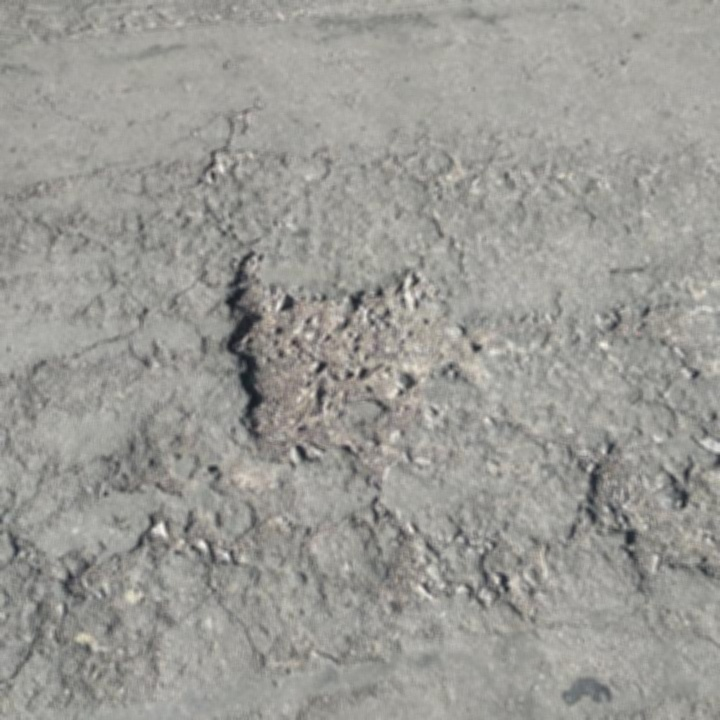pothole: (211, 247, 456, 463), (579, 444, 669, 571)
